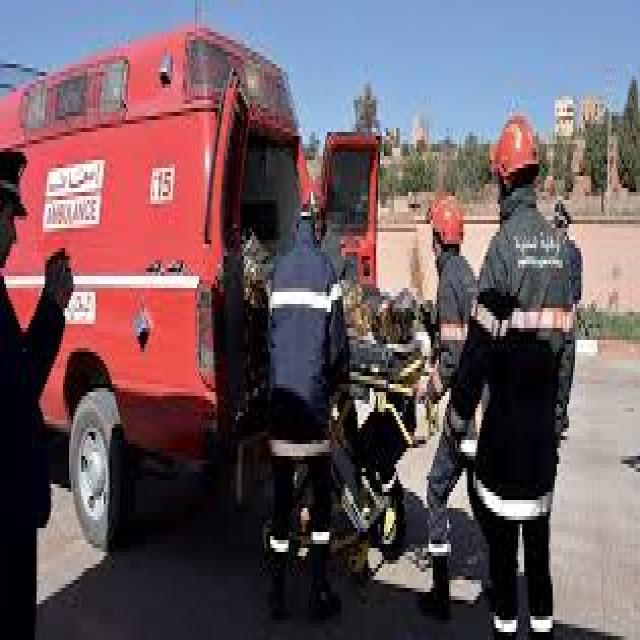ambulance: (0, 29, 300, 540)
